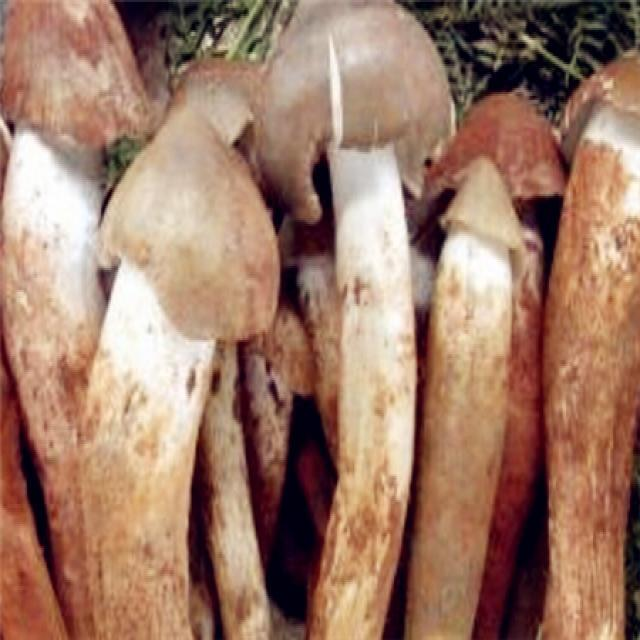Collybia albuminosa: (253, 0, 455, 636), (75, 106, 280, 640), (0, 0, 145, 407), (410, 150, 524, 638), (558, 44, 640, 640)
